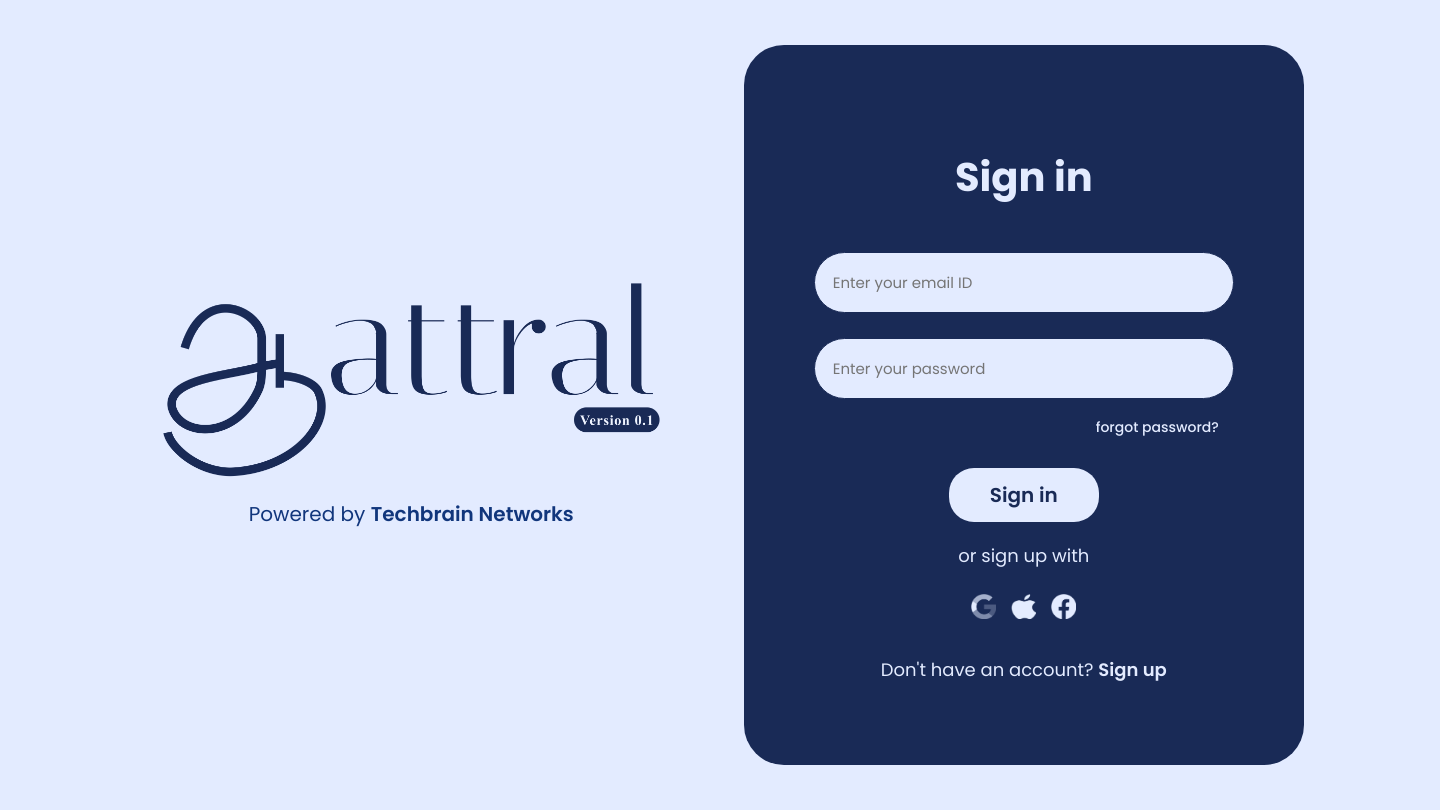
Test: Signinpage Component Tests › shows invalid email error
Type "invalidemail" into the field with placeholder "Enter your email ID". click: (1024, 282)
box: [814,252,1234,313]
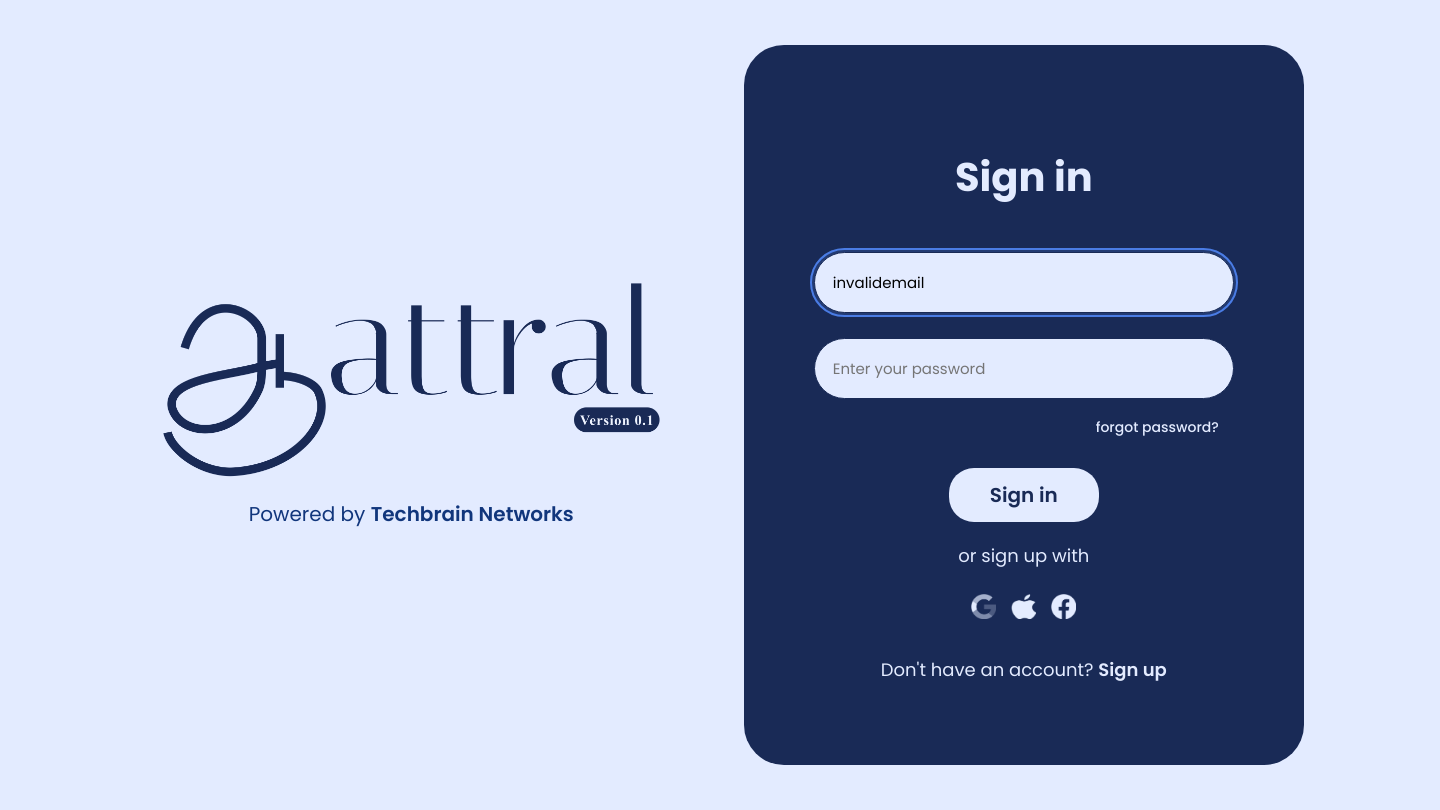
Click the button "Sign in". click: (1024, 495)
box: [949,468,1099,522]
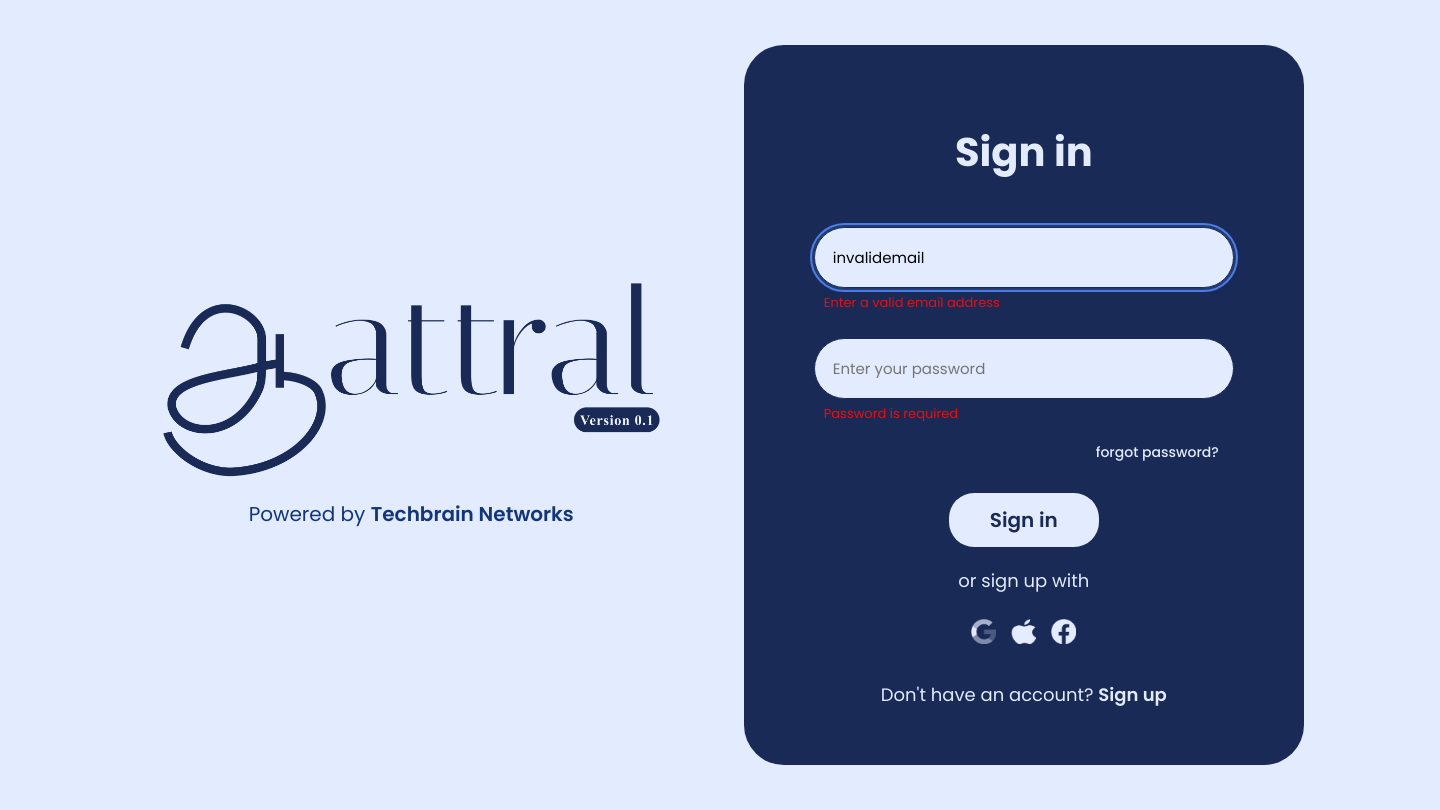
Check: the text "Enter a valid email address" is shown, box [824,293,1000,312]
